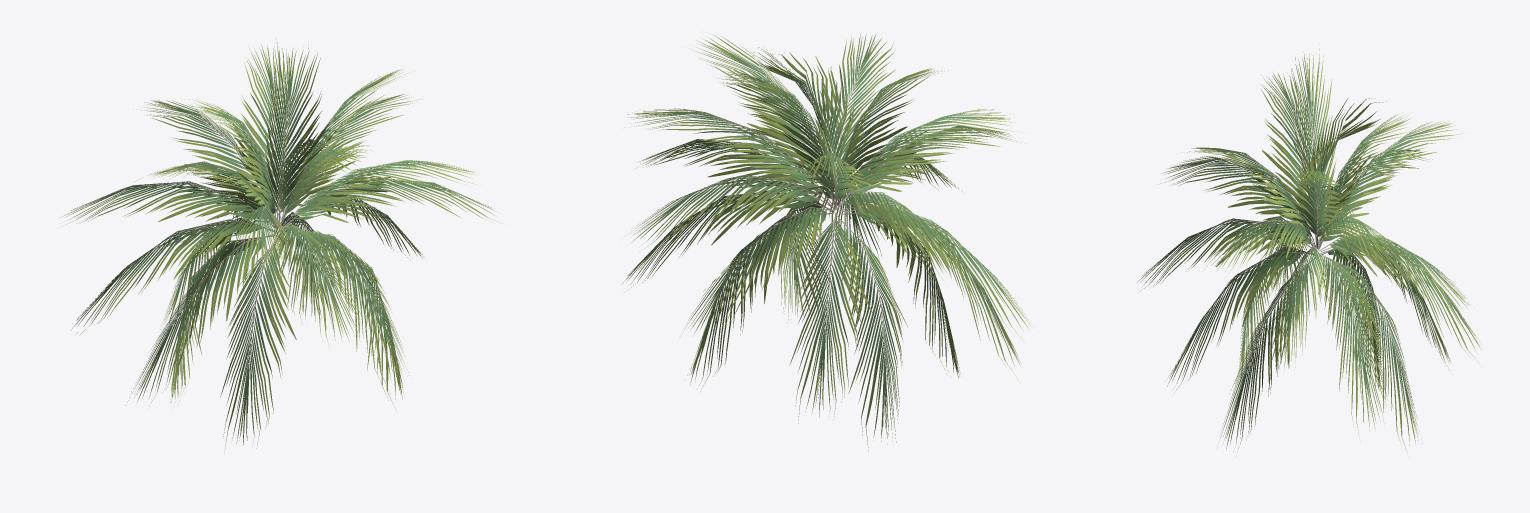
File: m_palm_p2_4_leaf_0.001.glb
3 views of the same model, side by side, from view 1: azimuth 30°, elevation 25°; view 2: azimuth 150°, elevation 25°; view 3: azimuth 270°, elevation 25° (orthographic). The views are drawn at different scales.
Visible parts, largest first — view 1: M_Palm_P2_4_Leaf_0.001; view 2: M_Palm_P2_4_Leaf_0.001; view 3: M_Palm_P2_4_Leaf_0.001.
Boxes of the visible parts, x1,y1,x2,y2 form: M_Palm_P2_4_Leaf_0.001: (59, 38, 502, 454); M_Palm_P2_4_Leaf_0.001: (621, 32, 1031, 450); M_Palm_P2_4_Leaf_0.001: (1137, 43, 1481, 452).
Bounding box in the file's own units: 4.16 × 3.25 × 3.07.
Materials: 1 (1 with a texture image).
